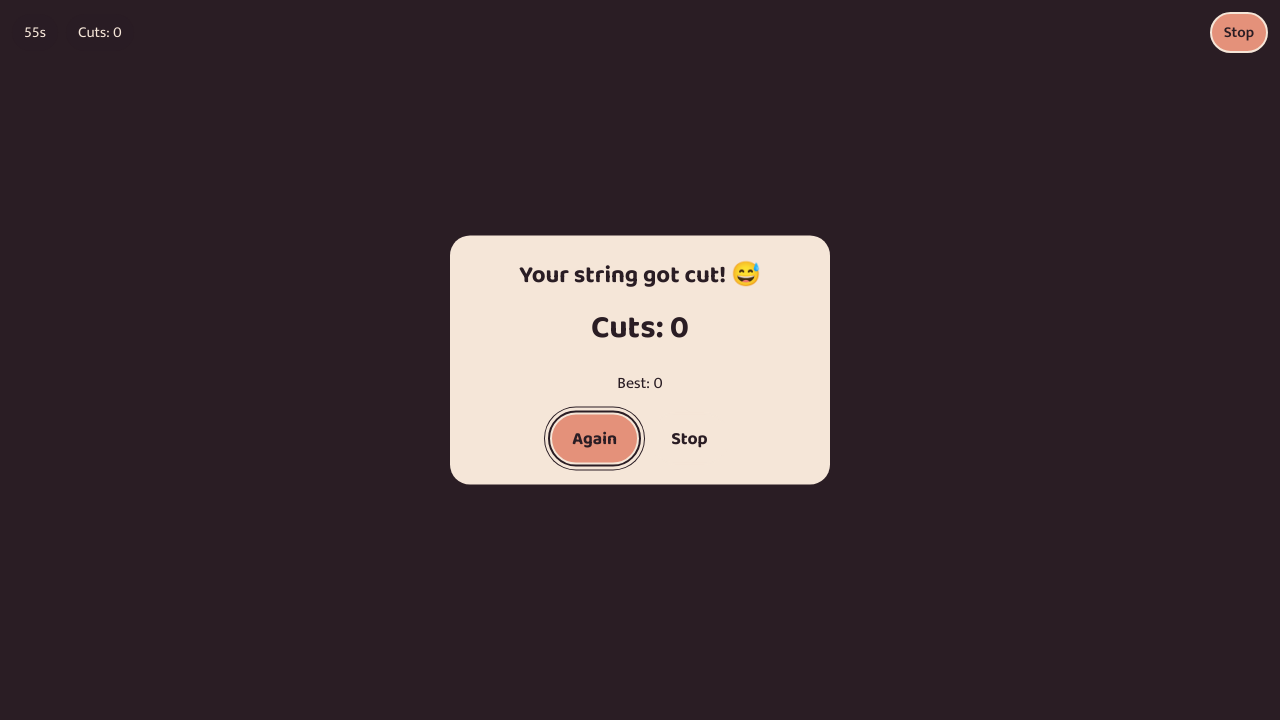
Again hands focus to the dialog (the button that had it is gone), and the next round runs
Click the button "Again" at (595, 438), box x1=550 y1=412 x2=639 y2=464
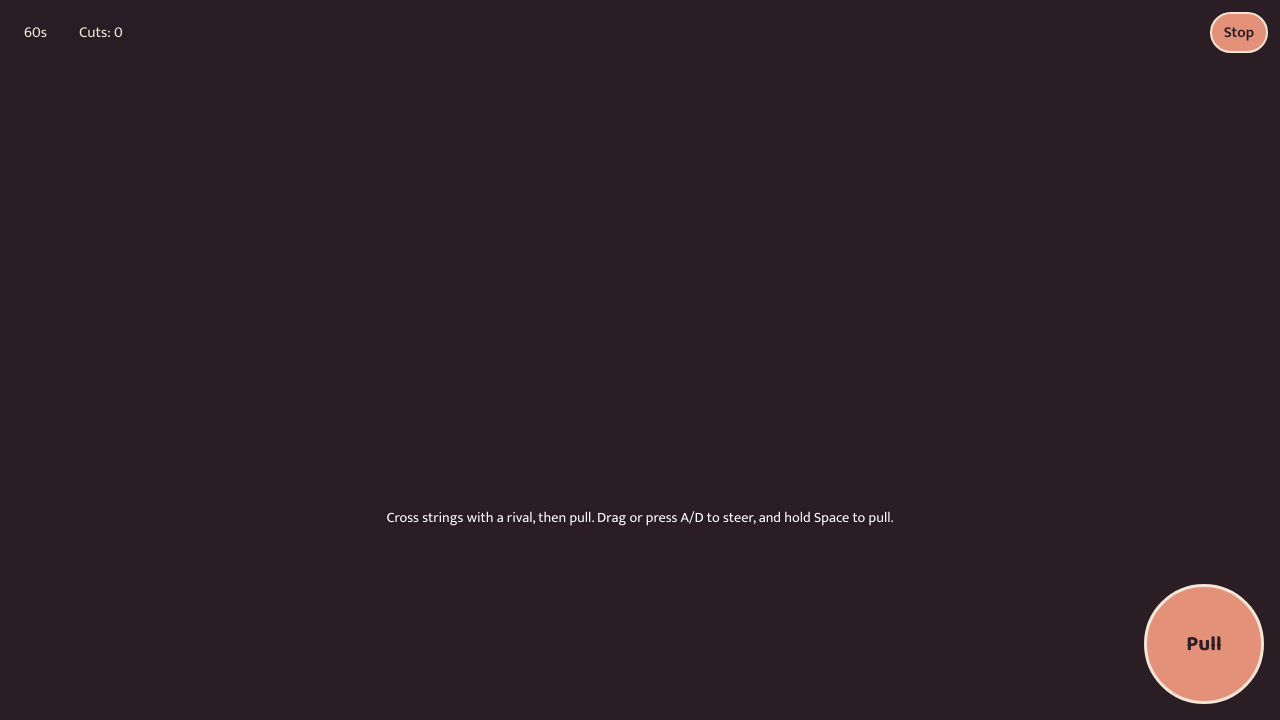
Expected: the message "Your string got cut! 😅 Cuts: 0 Best: 0 Again Stop" is gone
